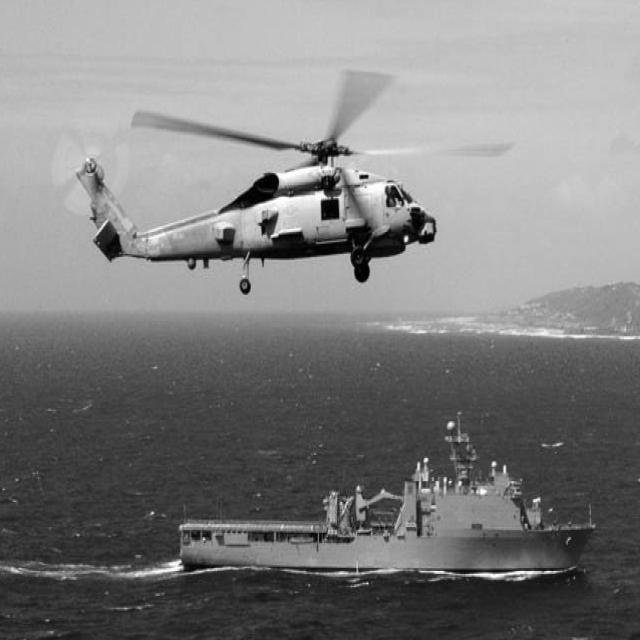helicopter: (50, 55, 472, 305), (163, 404, 611, 599)
